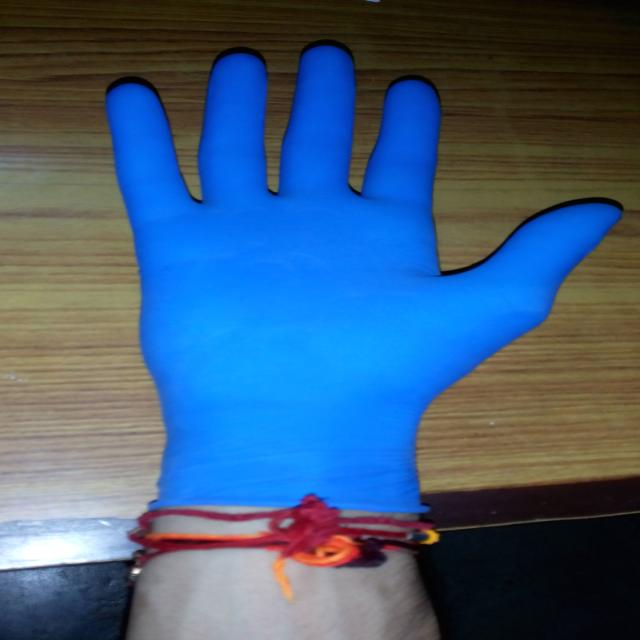glove: (93, 36, 632, 525)
